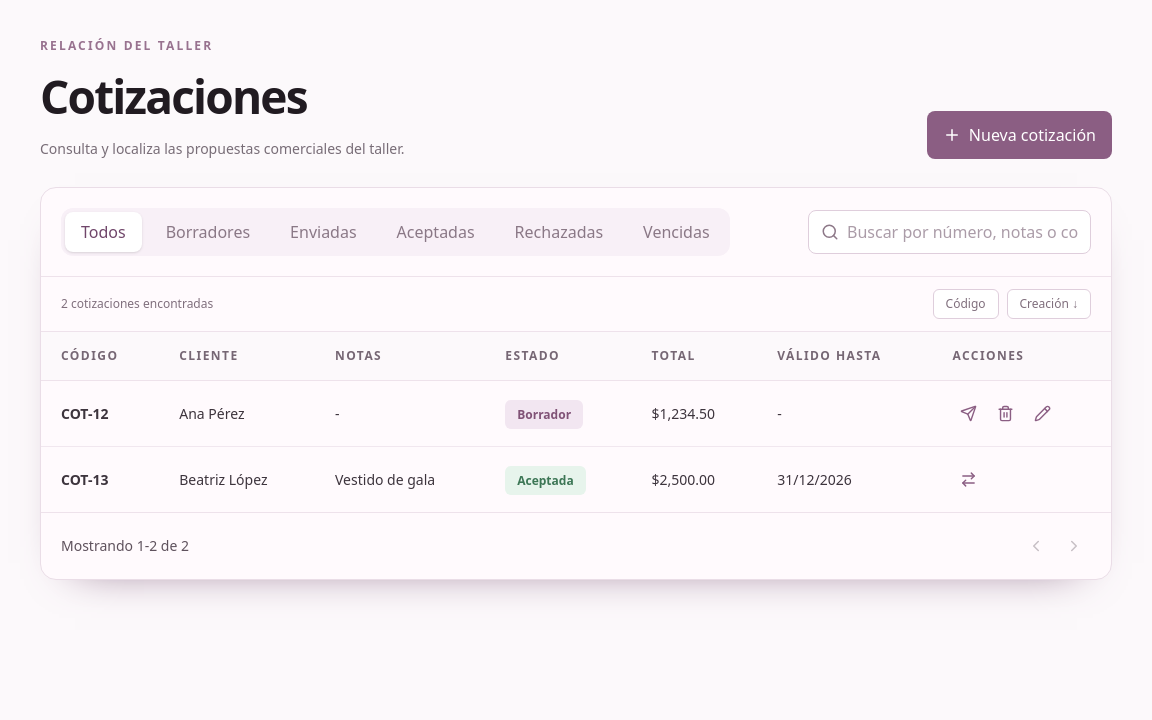
QuotesPage › shows stage API errors without enabling conversion
Expected: the text "COT-13" is shown, x1=61 y1=470 x2=108 y2=488
Click the button named "Convertir en pedido": [969, 480] box x1=952 y1=463 x2=986 y2=496
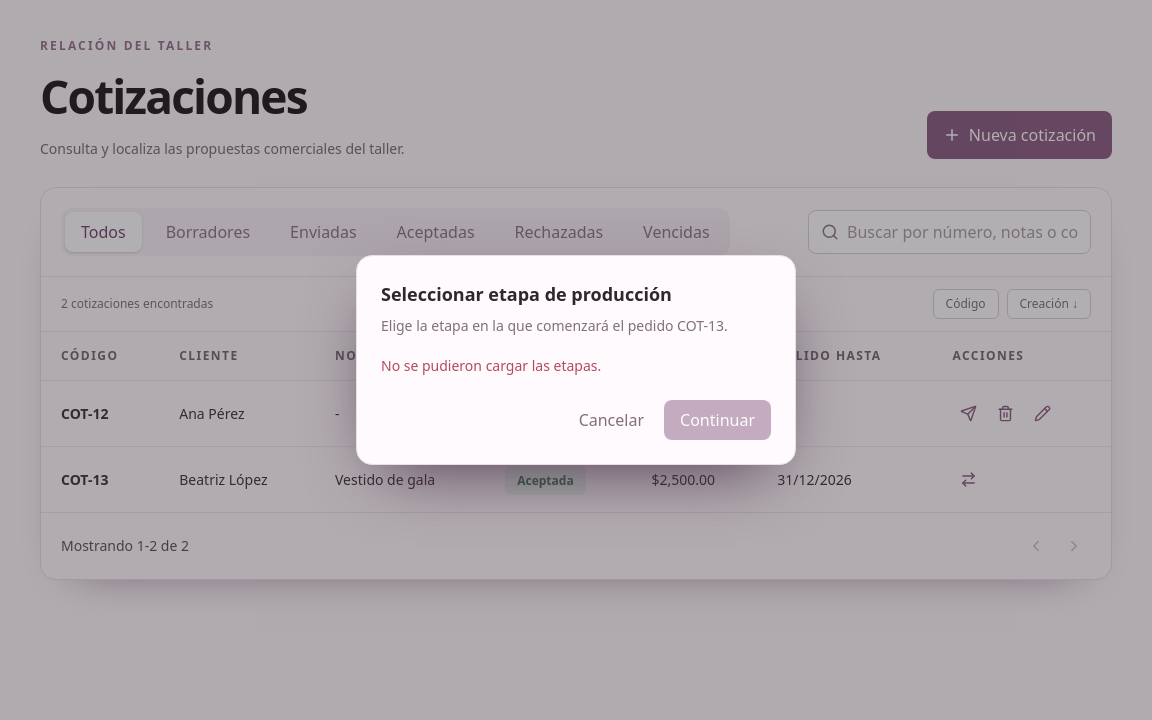
Expected: the text "No se pudieron cargar las etapas." is shown, x1=381 y1=356 x2=601 y2=375
Expected: the button "Continuar" is disabled, x1=664 y1=400 x2=771 y2=440
